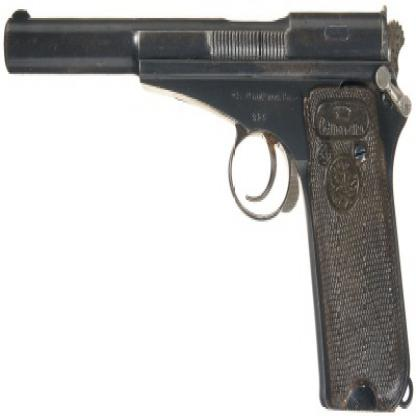Guns: (1, 0, 412, 414)
